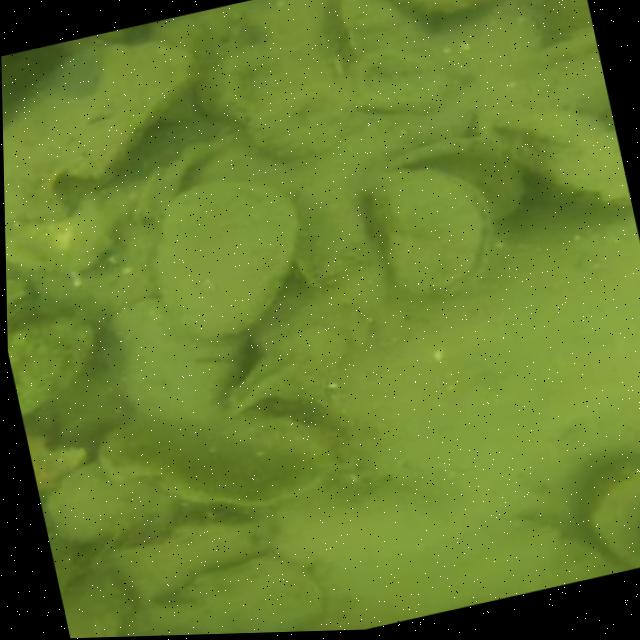Oyster-Closed: (167, 393, 332, 503)
Oyster-Indeterminate: (3, 43, 191, 222), (159, 182, 302, 339), (100, 301, 235, 423), (127, 557, 326, 636), (371, 170, 484, 296), (488, 108, 627, 203), (113, 519, 271, 600), (196, 35, 337, 117), (42, 464, 175, 535), (7, 316, 94, 413), (248, 82, 350, 160), (342, 52, 444, 114), (340, 0, 422, 53), (68, 575, 128, 638), (406, 0, 488, 12)
Oyster-Open: (587, 474, 640, 562)
